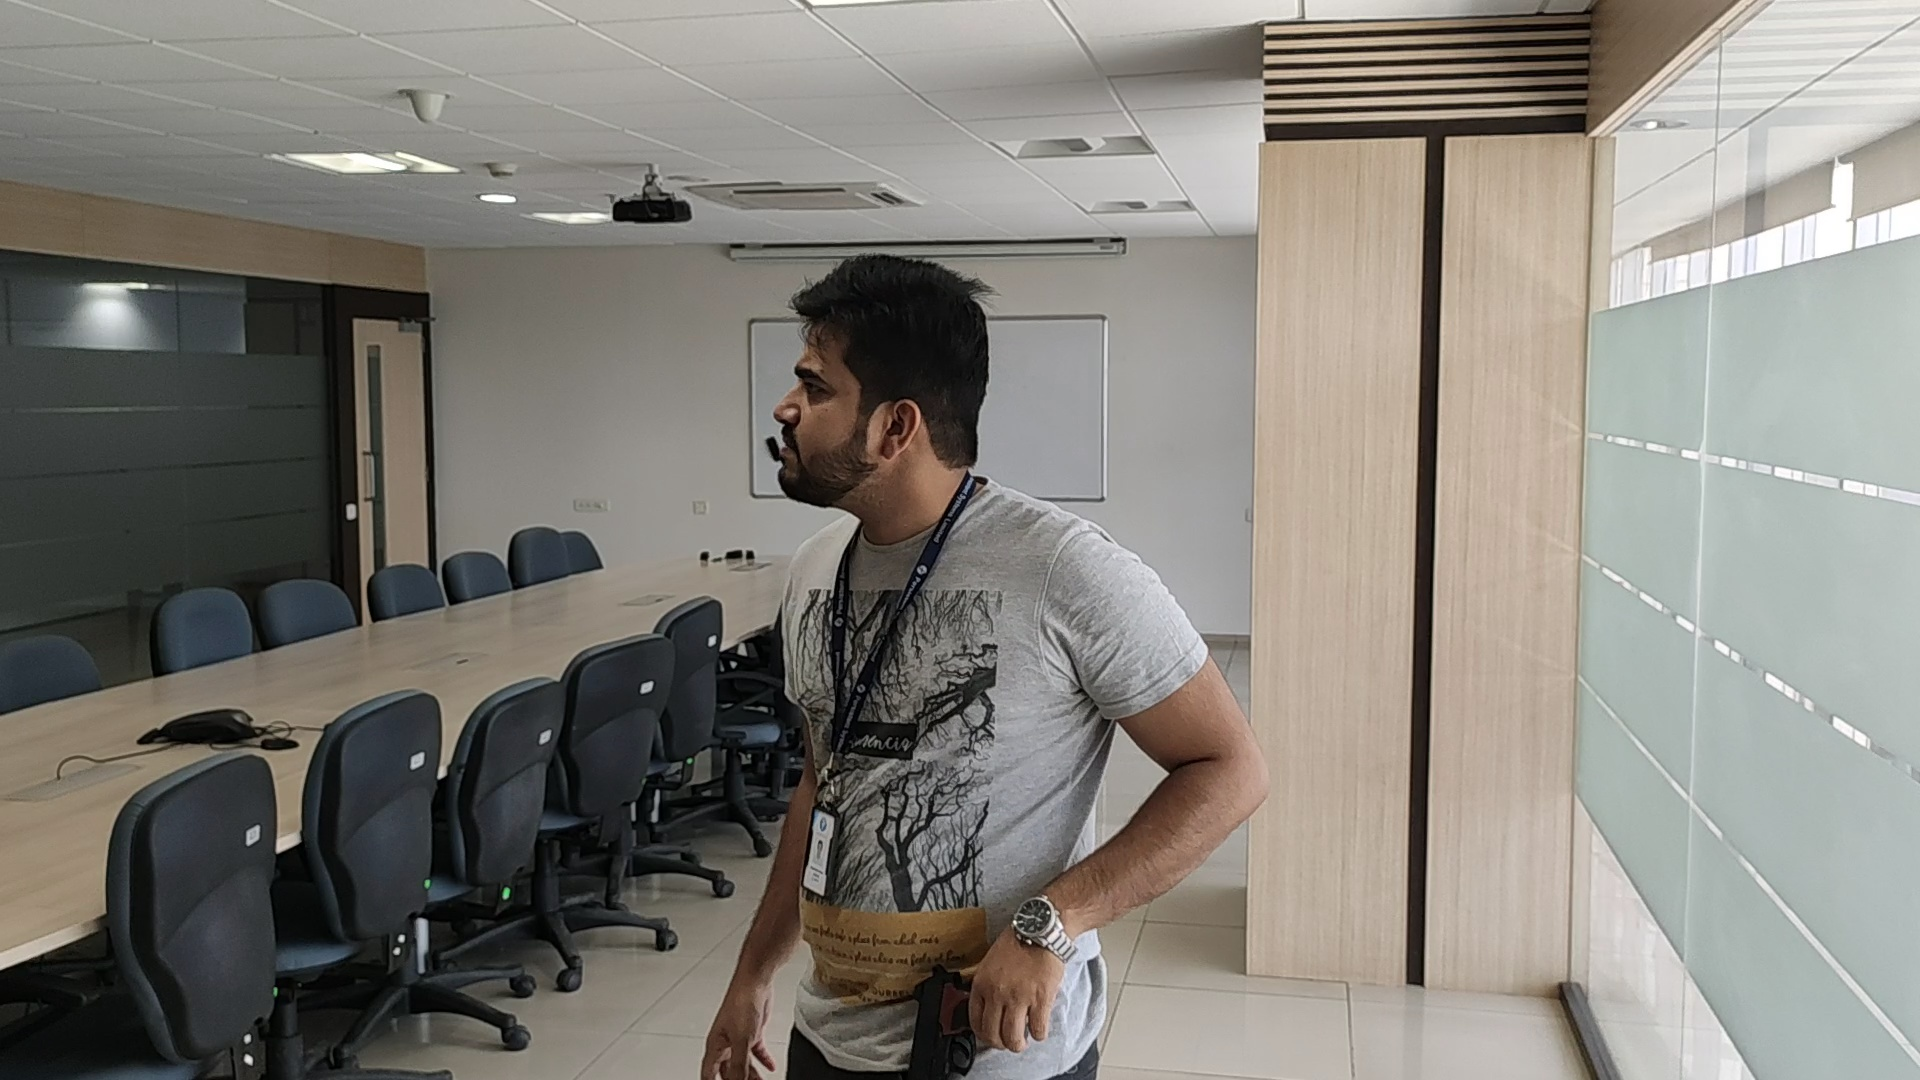gun: (907, 965, 971, 1080)
